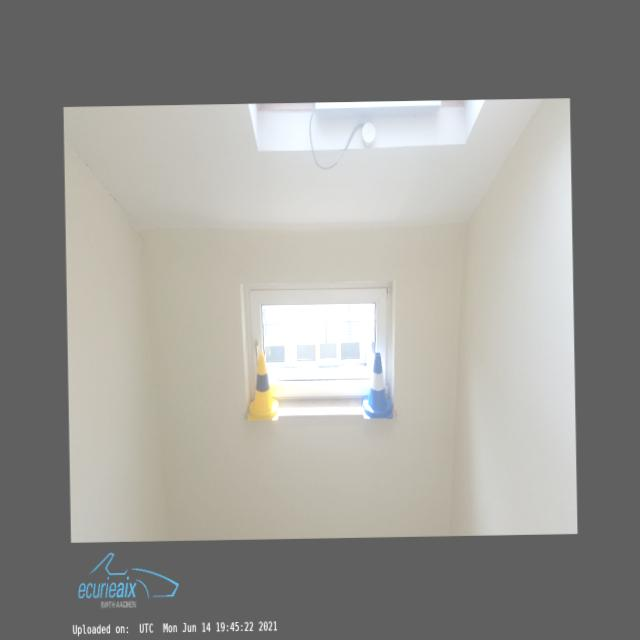blue_cone: (360, 352, 392, 418)
yellow_cone: (246, 354, 278, 419)
